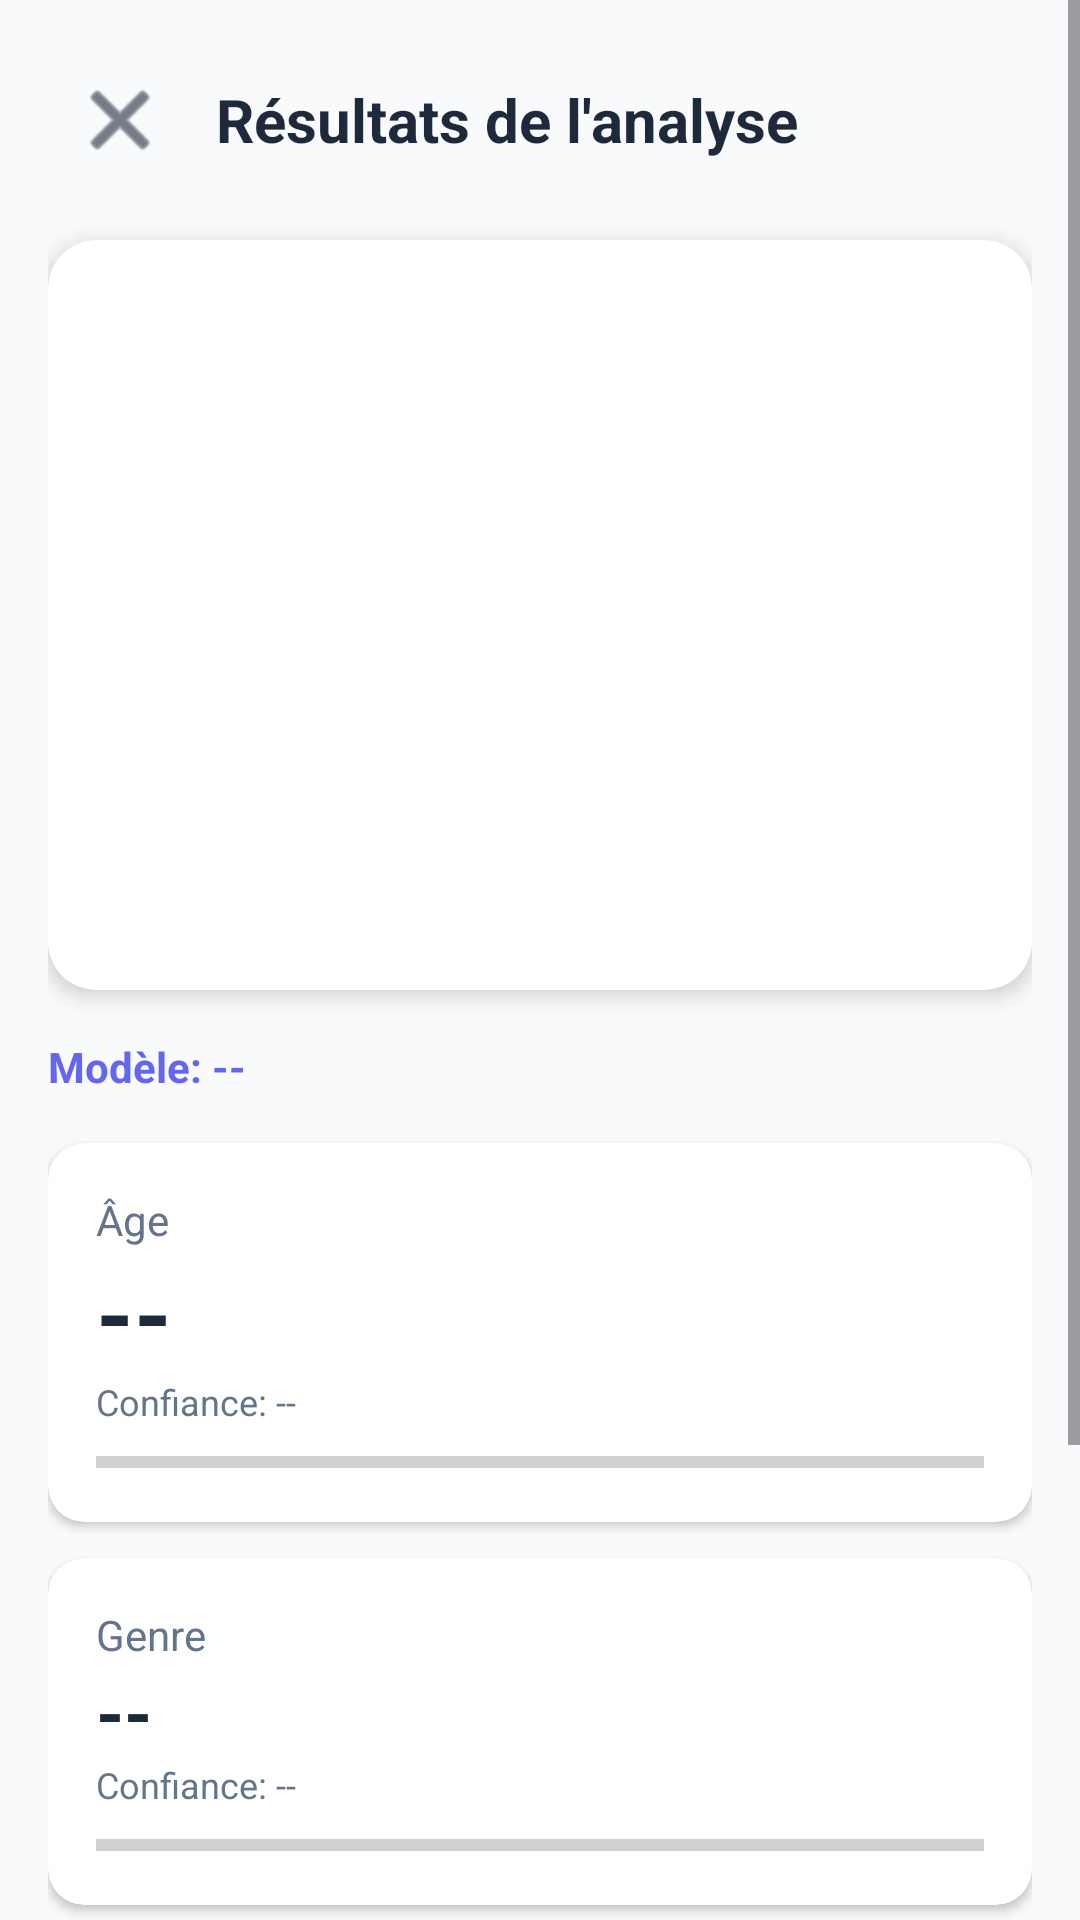

Named icons in this screenshot (1080x1920) and their bounding boxes, BBox(x1, y1, x2, y2):
close clear cancel: BBox(90, 90, 150, 150)
